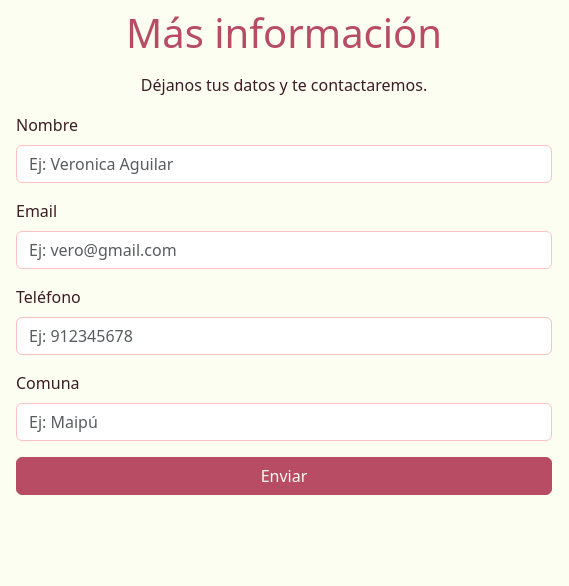
Test case: Contacto › con datos válidos muestra el mensaje de éxito
Step 1. Type "Veronica Aguilar" into the field labelled "Nombre" → [284, 164], box [16,145,552,183]
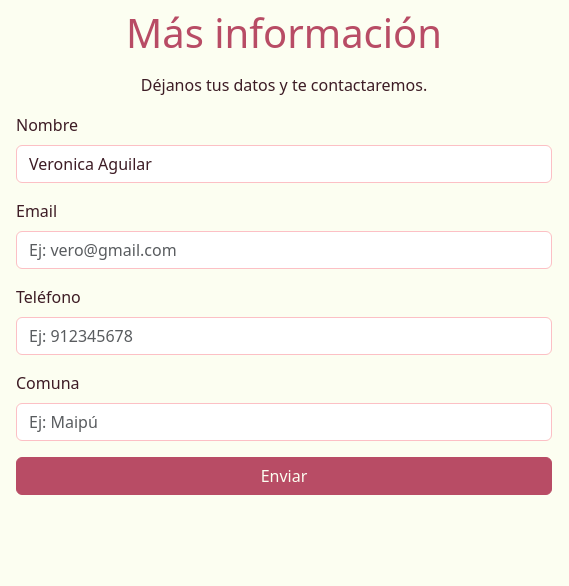
Step 2. Type "vero@gmail.com" into the field labelled "Email" → [284, 250], box [16,231,552,269]
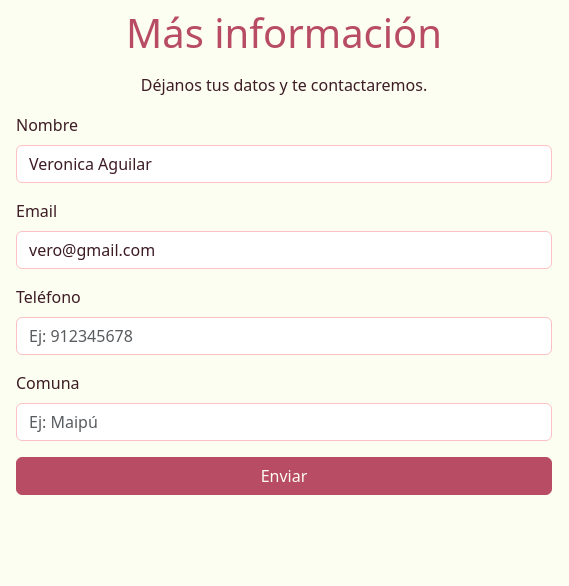
Step 3. Type "987654321" into the field labelled "Teléfono" → [284, 336], box [16,317,552,355]
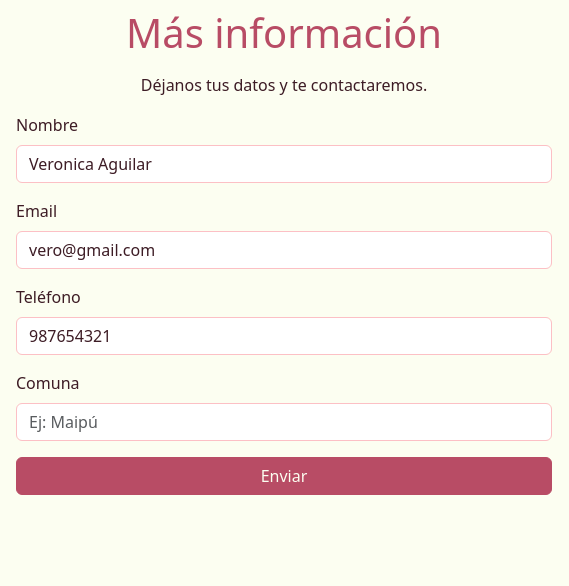
Step 4. Type "Maipú" into the field labelled "Comuna" → [284, 422], box [16,403,552,441]
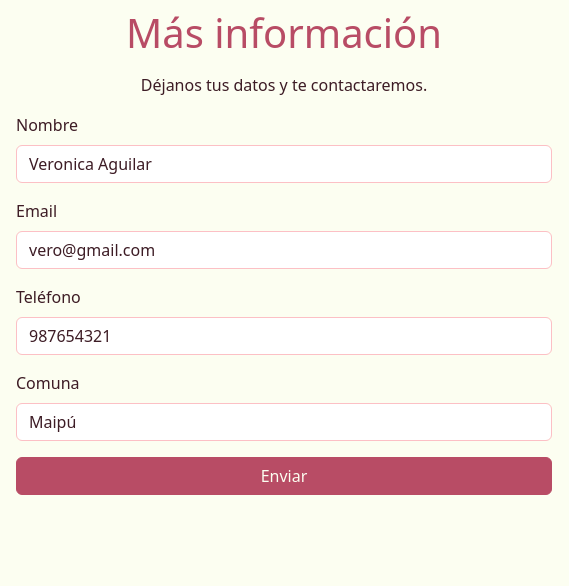
Step 5. Click the button "Enviar" → [284, 476], box [16,457,552,495]
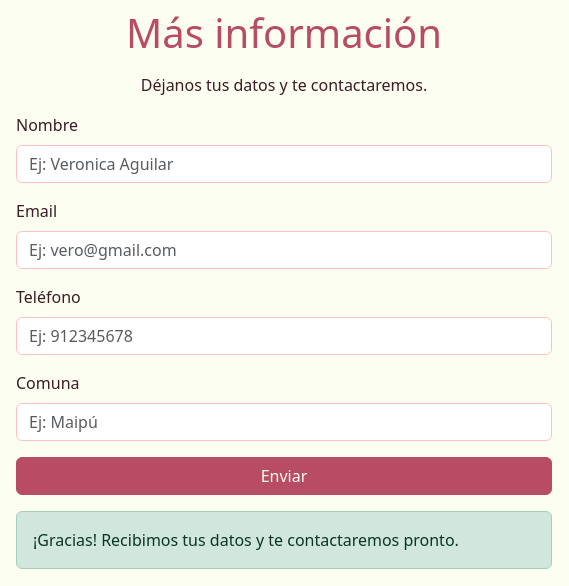
Expected: the text "¡Gracias! Recibimos tus datos y te contactaremos pronto." is shown, [16,511,552,569]
